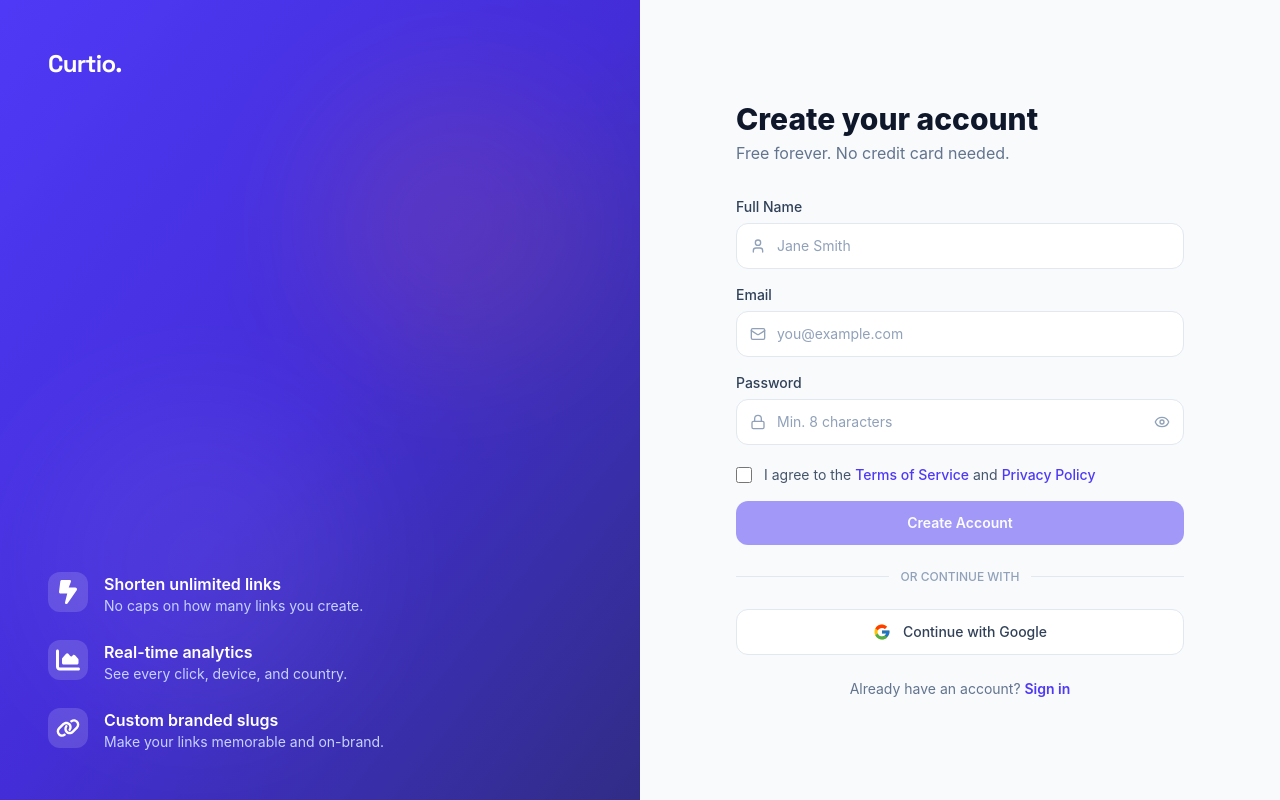
it: Register - sign-up journey › an incomplete OTP is rejected before any request
This screenshot has width=1280, height=800.
Type "Alex Morgan" into the field with placeholder "Jane Smith" at x=960, y=246, box [736,223,1184,269]
Type "alex@example.com" into the field with placeholder "you@example.com" at x=960, y=334, box [736,311,1184,357]
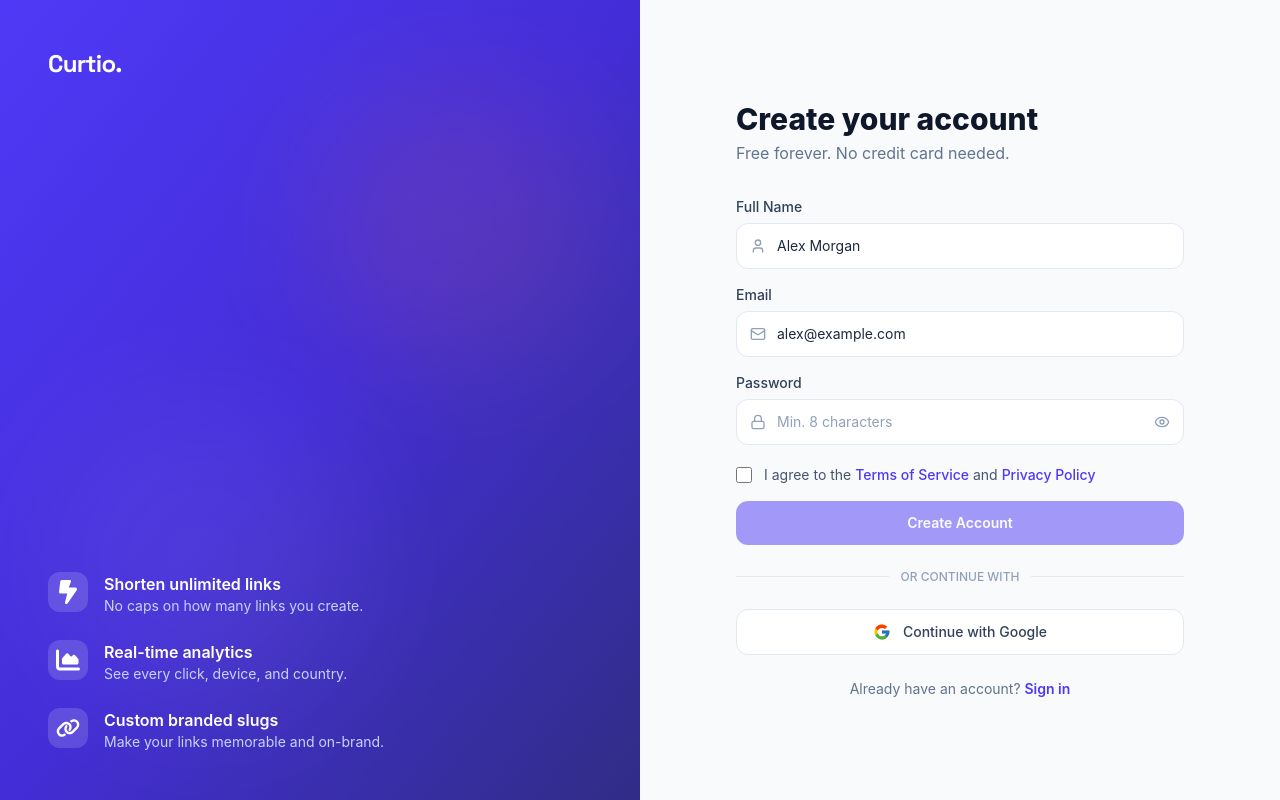
Type "Password123!" into the password field with placeholder "Min. 8 characters" at x=960, y=422, box [736,399,1184,445]
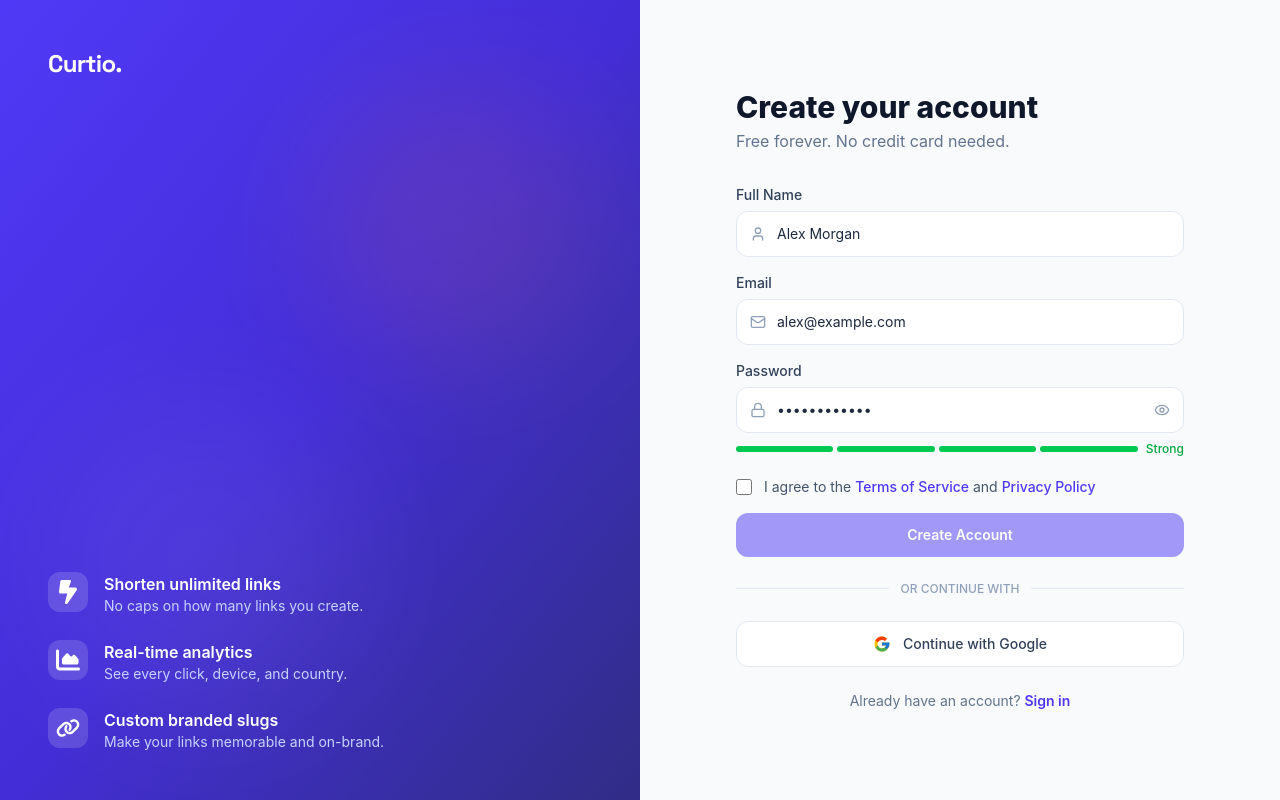
Click the checkbox at x=744, y=487, box [736,479,752,495]
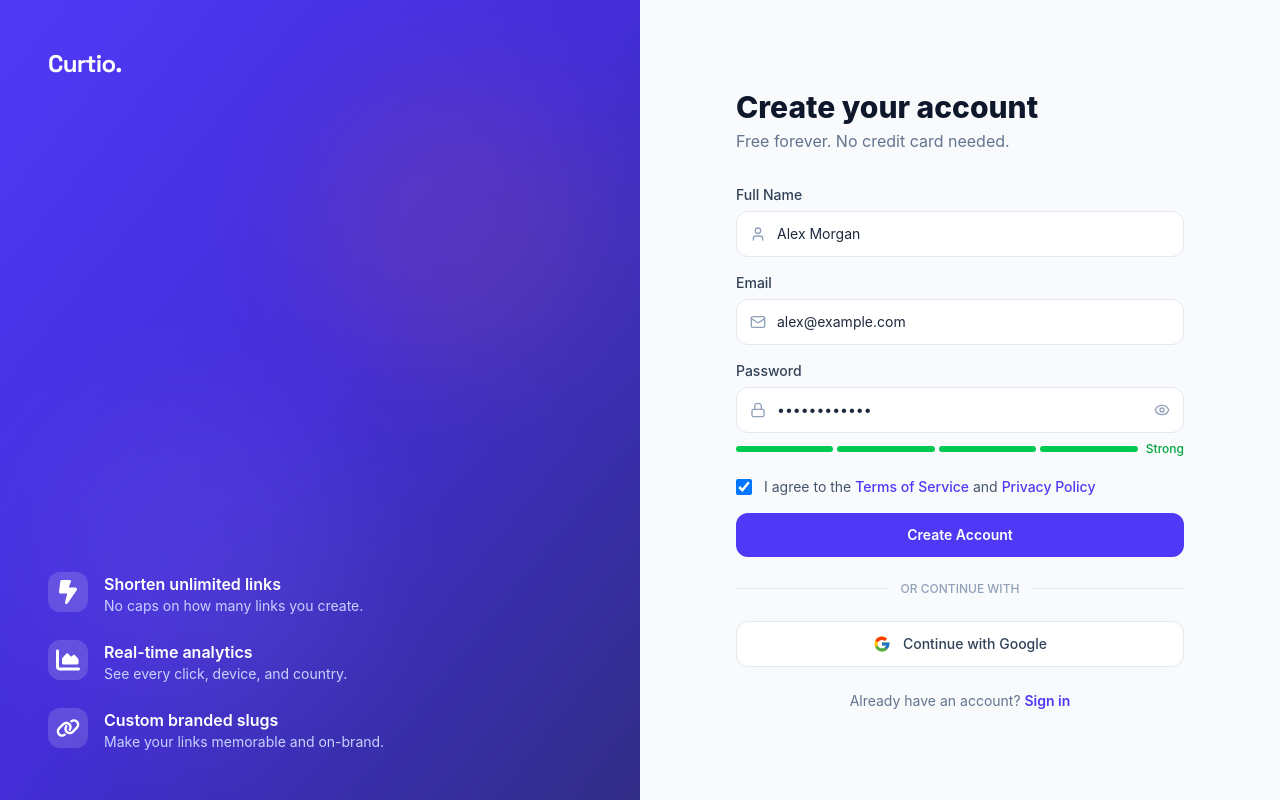
Click the button "Create Account" at x=960, y=535, box [736,513,1184,557]
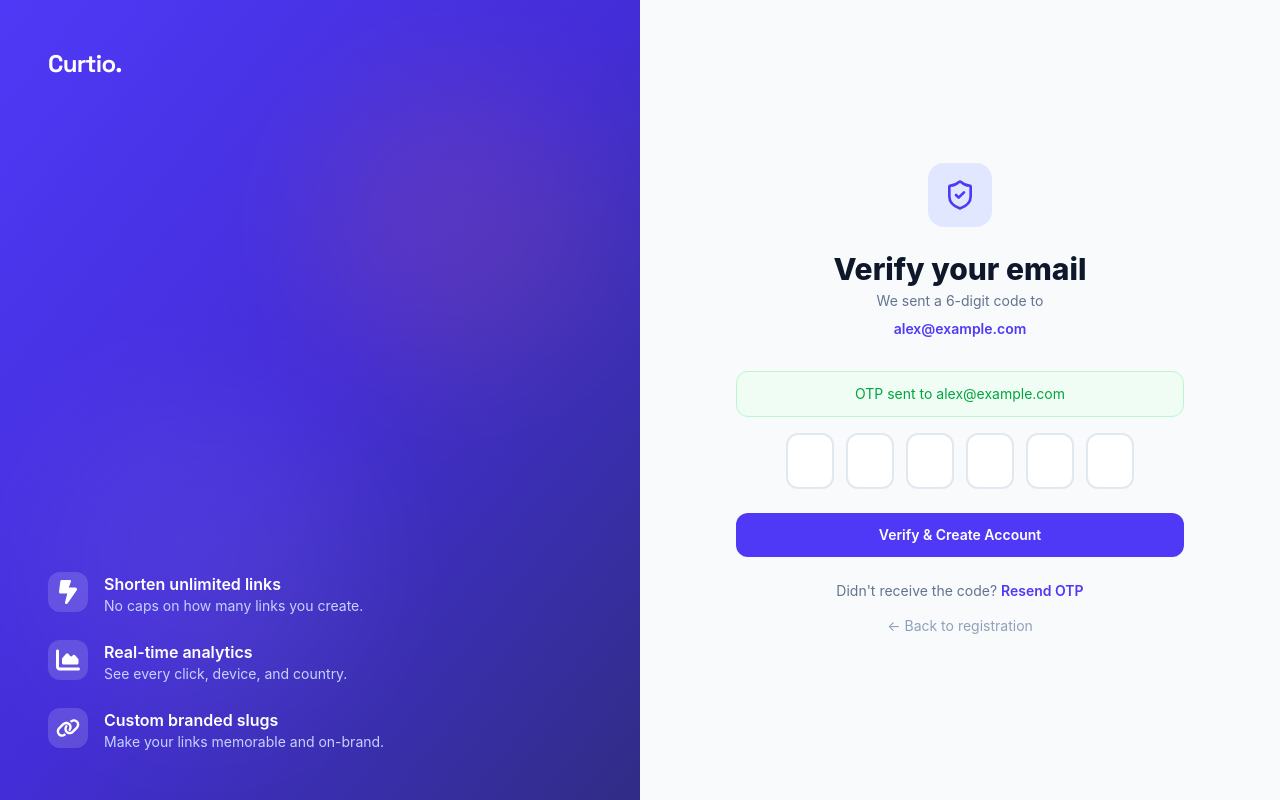
Expected: the heading "Verify your email" is shown, [834,251,1086,287]
Type "123" into the field named "Digit 1 of 6" at x=810, y=461, box [786,433,834,489]
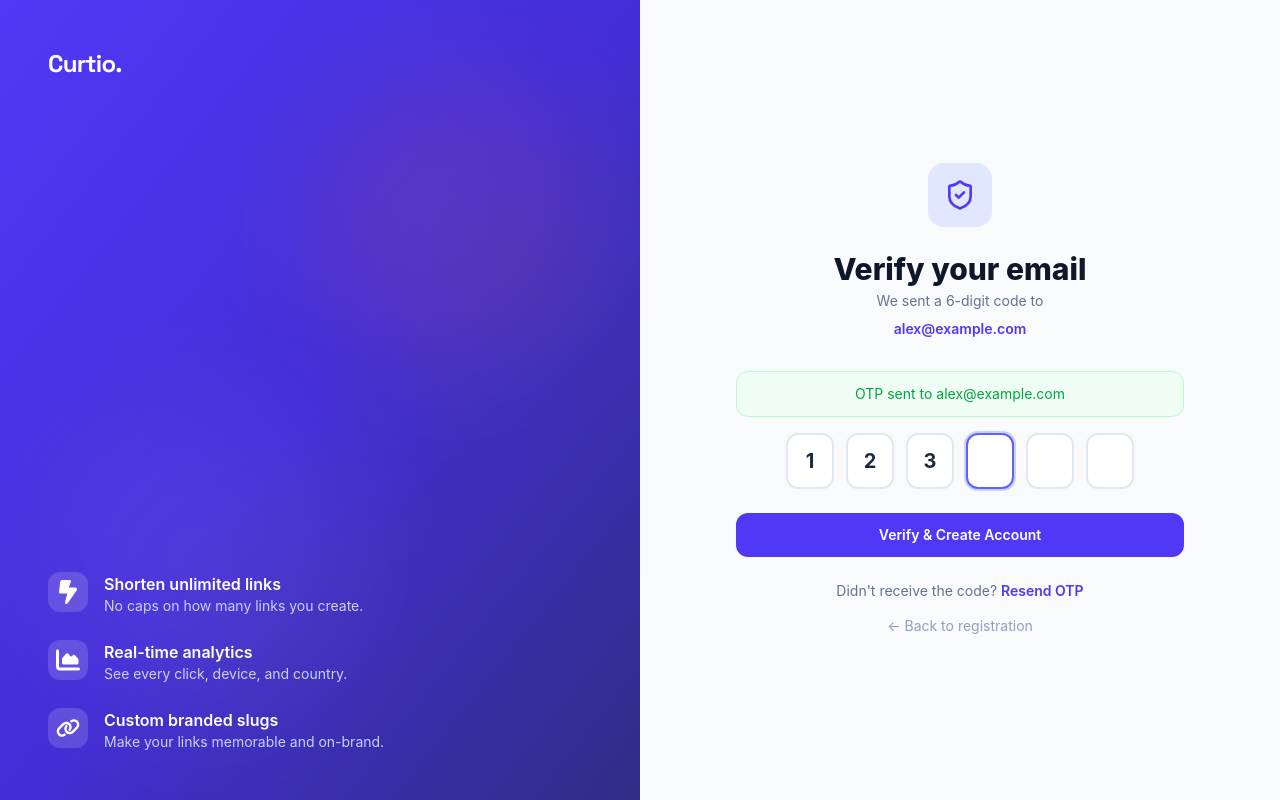
Click the button "Verify & Create Account" at x=960, y=535, box [736,513,1184,557]
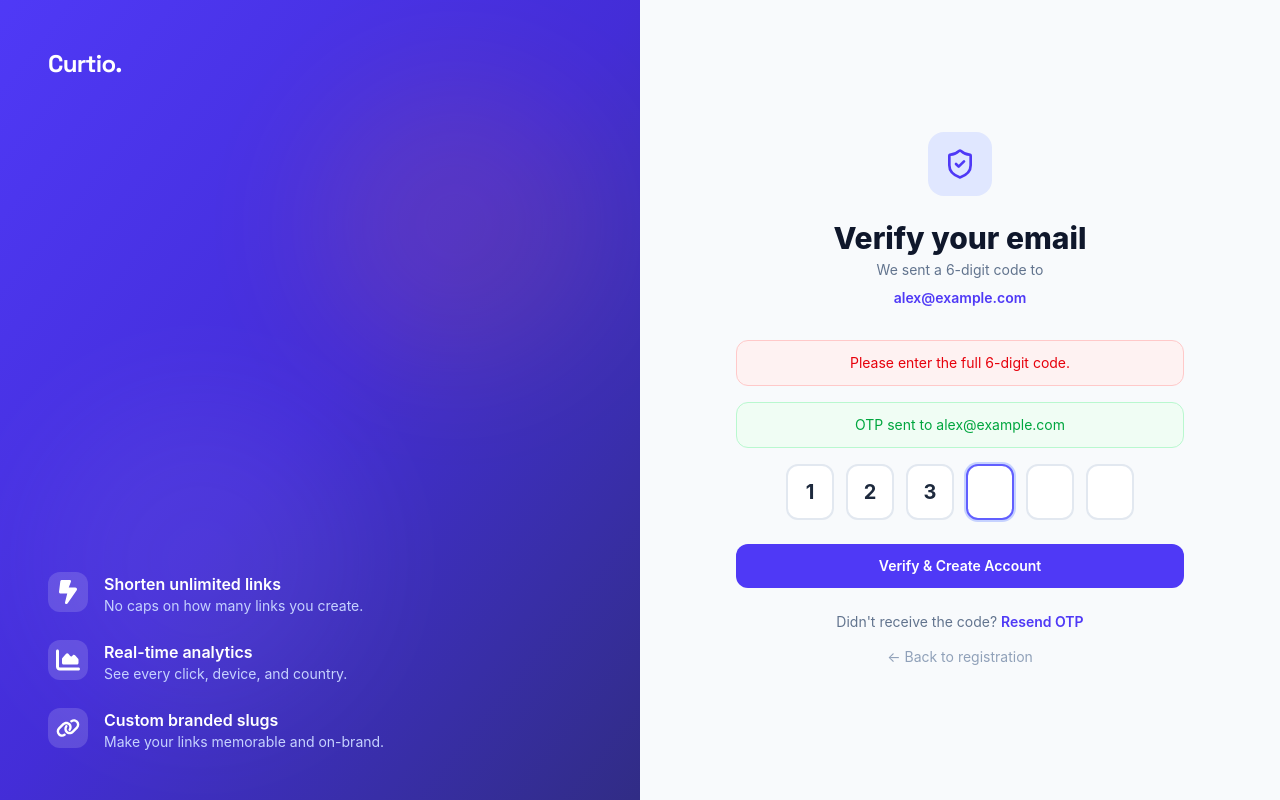
Expected: the text "Please enter the full 6-digit code." is shown, [736,340,1184,386]
